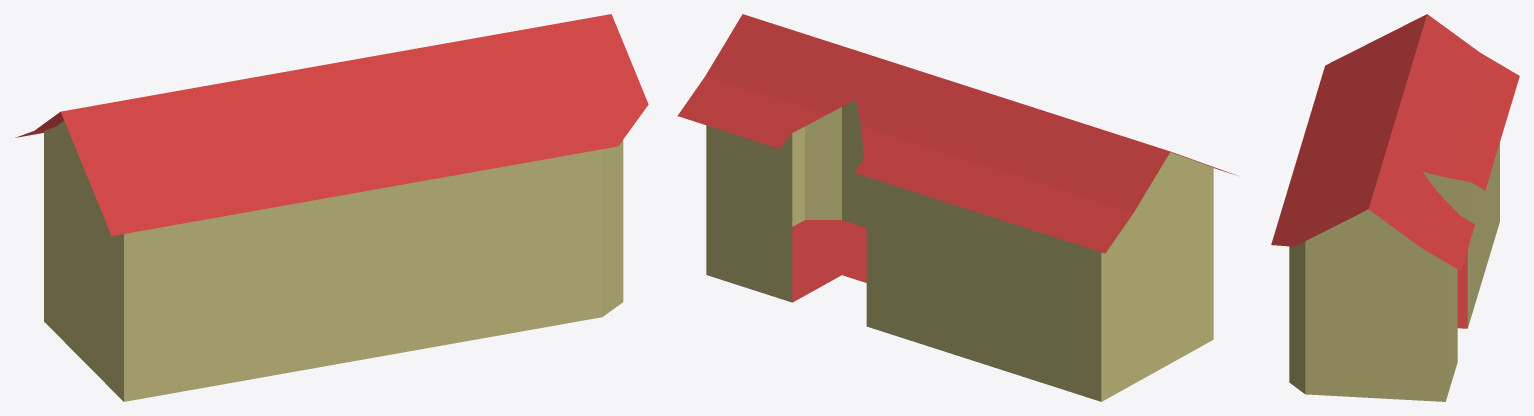
3 renders of one model, left to right at view 1: azimuth 30°, elevation 25°; view 2: azimuth 150°, elevation 25°; view 3: azimuth 270°, elevation 25°, orthographic. The views are drawn at different scales.
Bounding box in the file's own units: 20.54 × 10.49 × 9.13.
